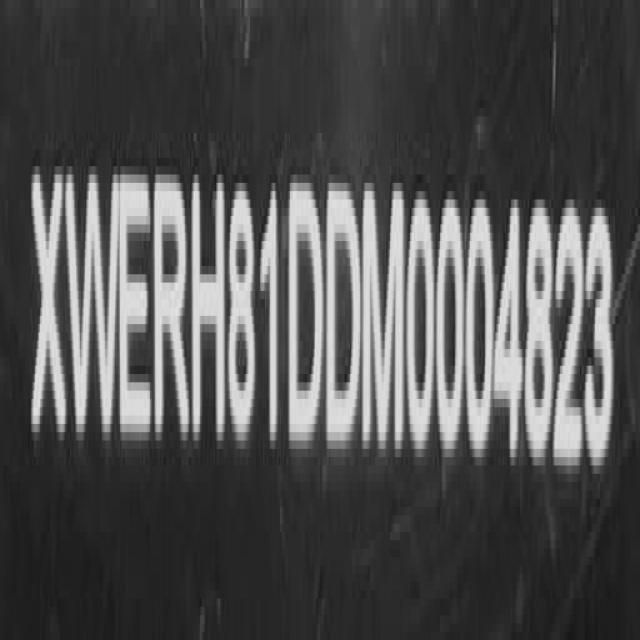0: (408, 186, 437, 463), (466, 192, 495, 468), (437, 193, 466, 461)
1: (260, 174, 285, 456)
2: (553, 205, 584, 471)
3: (588, 214, 620, 469)
4: (495, 192, 525, 468)
8: (226, 178, 256, 452), (524, 200, 554, 466)
D: (327, 179, 363, 461), (288, 175, 323, 456)
E: (118, 170, 158, 452)
H: (192, 174, 228, 454)
M: (361, 178, 404, 462)
R: (152, 163, 193, 453)
W: (66, 163, 122, 453)
X: (32, 159, 68, 453)
